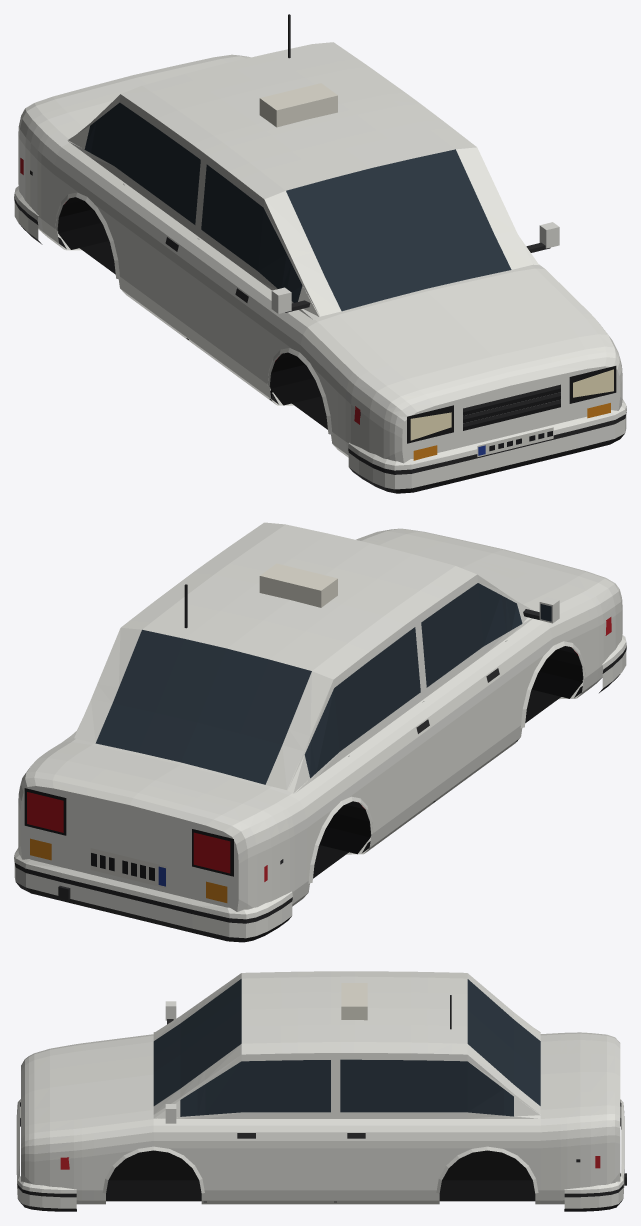
The model's file is vega-cordel-taxi.glb.
The picture shows the model from 3 angles, top to bottom: view 1: azimuth 30°, elevation 25°; view 2: azimuth 150°, elevation 25°; view 3: azimuth 270°, elevation 25°; orthographic projection. The views are drawn at different scales.
Parts seen in each view (by area): view 1: LOD0, door_FR, door_RR; view 2: LOD0, door_FR, door_RR; view 3: LOD0, door_FL, door_RL.
Boxes of the visible parts, box(x1,y1,x2,y2) form: LOD0: box(14, 14, 626, 493); door_FR: box(185, 156, 287, 396); door_RR: box(109, 101, 201, 335); LOD0: box(14, 522, 626, 942); door_FR: box(420, 574, 520, 798); door_RR: box(343, 618, 436, 846); LOD0: box(16, 971, 626, 1211); door_FL: box(205, 1053, 333, 1200); door_RL: box(337, 1053, 452, 1200).
Size of what is drawn, in the model's own units: 1.92 by 1.57 by 4.61.
